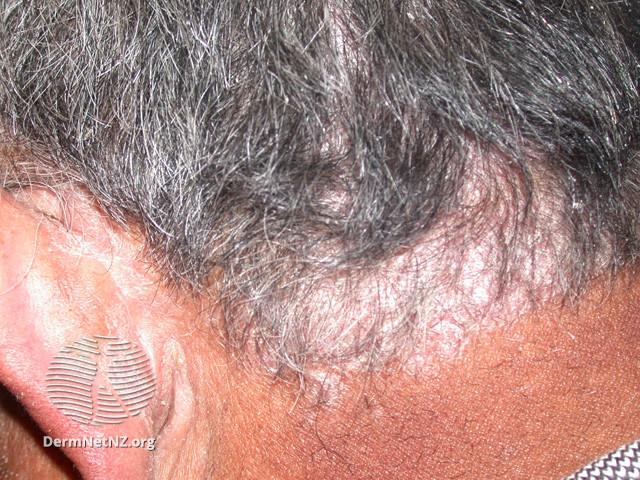Psoriasis: (36, 165, 636, 457)
